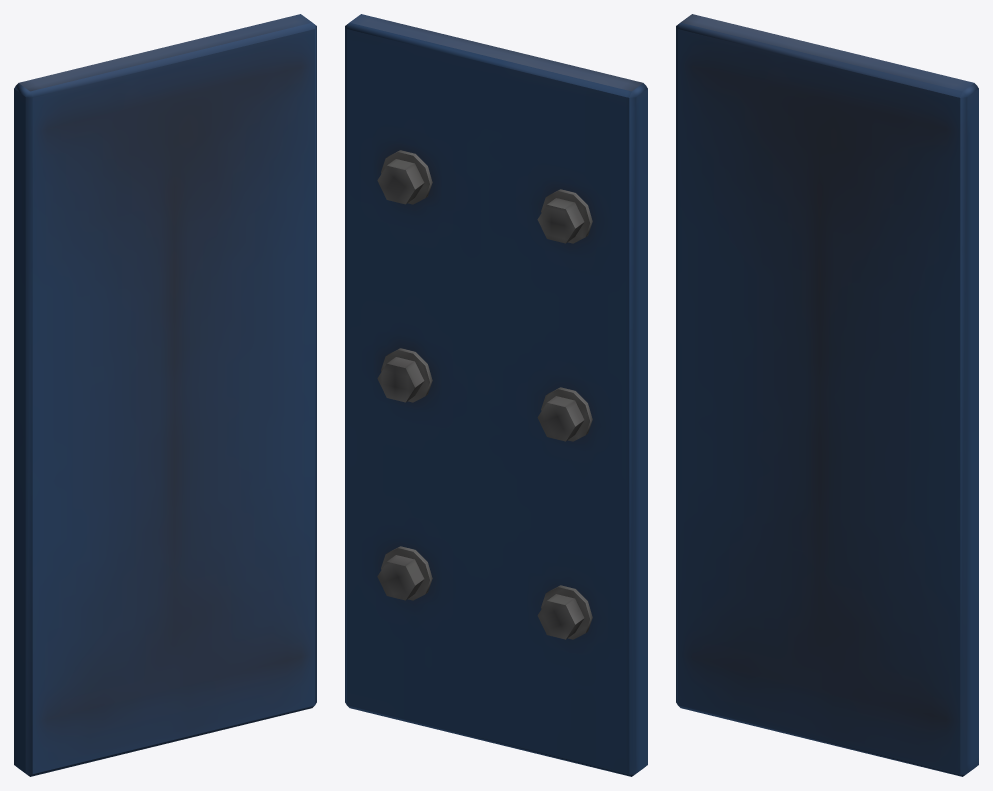
File: Beam_End.fbx
3 renders of one model, left to right at view 1: azimuth 30°, elevation 25°; view 2: azimuth 150°, elevation 25°; view 3: azimuth 330°, elevation 25°, orthographic.
Visible parts, largest first — view 1: Beam_End_LOD0; view 2: Beam_End_LOD0; view 3: Beam_End_LOD0.
Part boxes in pixels (bbox=[...]): Beam_End_LOD0: bbox=[14, 14, 316, 776]; Beam_End_LOD0: bbox=[345, 14, 647, 776]; Beam_End_LOD0: bbox=[676, 14, 978, 776].
Size of what is drawn, in the model's own units: 0.2 by 0.45 by 0.034.
Materials: 1 (1 with a texture image).
